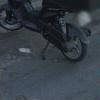Motorcycle: (4, 2, 95, 67)
